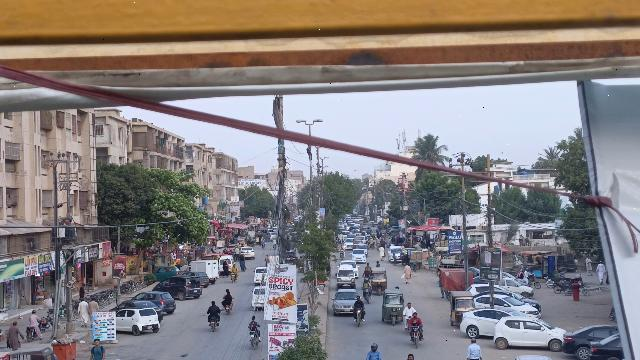Bike: (409, 325, 423, 349), (352, 307, 367, 328), (247, 332, 261, 352), (206, 315, 220, 334), (221, 302, 234, 317), (25, 325, 37, 341)
Car: (492, 315, 565, 350), (561, 323, 623, 359), (460, 309, 529, 335), (475, 295, 540, 318), (154, 275, 203, 300), (116, 308, 160, 334), (109, 299, 163, 320), (135, 290, 177, 314), (585, 334, 620, 360), (331, 288, 360, 316), (250, 286, 265, 309), (252, 266, 268, 285)
Person: (5, 320, 21, 353), (75, 297, 90, 328), (88, 338, 106, 360), (466, 336, 482, 360), (205, 299, 224, 318), (244, 313, 262, 333), (365, 341, 381, 360), (27, 308, 42, 328), (407, 312, 424, 329), (401, 262, 413, 284), (89, 298, 98, 325), (221, 287, 235, 303), (351, 296, 367, 310)
Rickshaw: (446, 288, 475, 327), (379, 290, 405, 326), (371, 267, 388, 295)
Truck: (189, 260, 219, 283)
Van: (334, 265, 356, 289)
